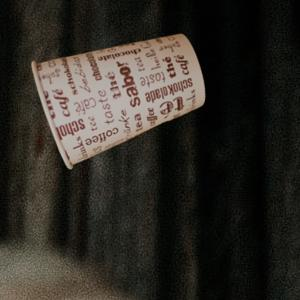cup: (31, 34, 208, 172)
